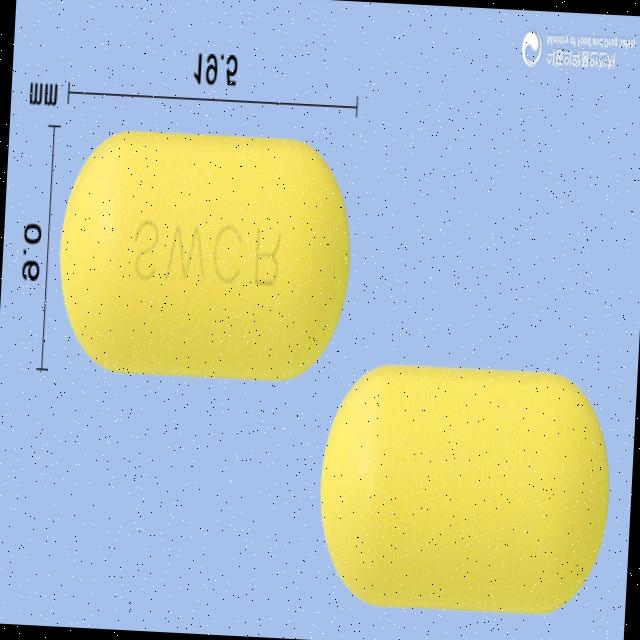Clath: (52, 125, 359, 390)
